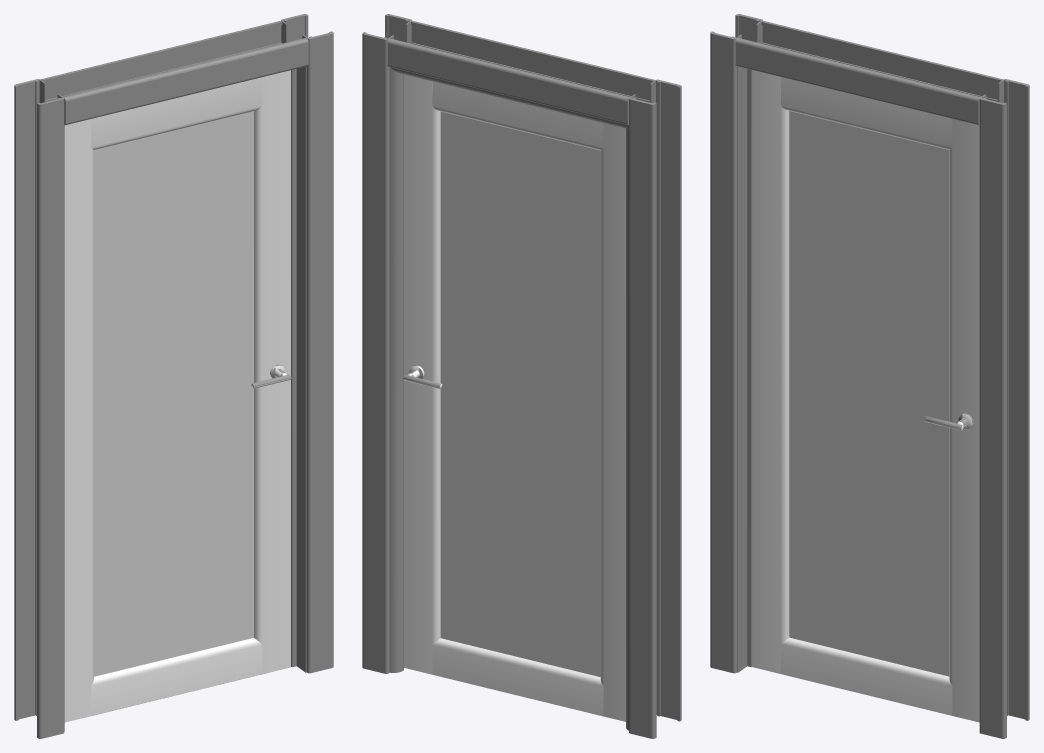
The model's file is Door 1.FBX.
The picture shows the model from 3 angles, left to right: view 1: azimuth 30°, elevation 25°; view 2: azimuth 150°, elevation 25°; view 3: azimuth 330°, elevation 25°; orthographic projection.
Parts seen in each view (by area): view 1: Door 1, Doorframe1; view 2: Door 1, Doorframe1; view 3: Door 1, Doorframe1.
Boxes of the visible parts, x1=… form: Door 1: x1=64, y1=70, x2=291, y2=722; Doorframe1: x1=14, y1=14, x2=333, y2=738; Door 1: x1=403, y1=74, x2=625, y2=721; Doorframe1: x1=362, y1=14, x2=681, y2=738; Door 1: x1=752, y1=70, x2=979, y2=722; Doorframe1: x1=710, y1=14, x2=1029, y2=738.
Size of the model in its own units: 119 by 244 by 19.08.
Materials: 3 (1 with a texture image).
